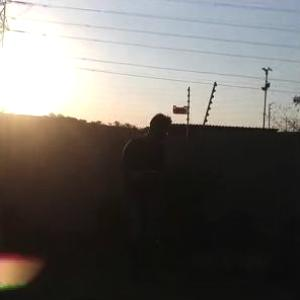follow: (116, 107, 176, 299)
